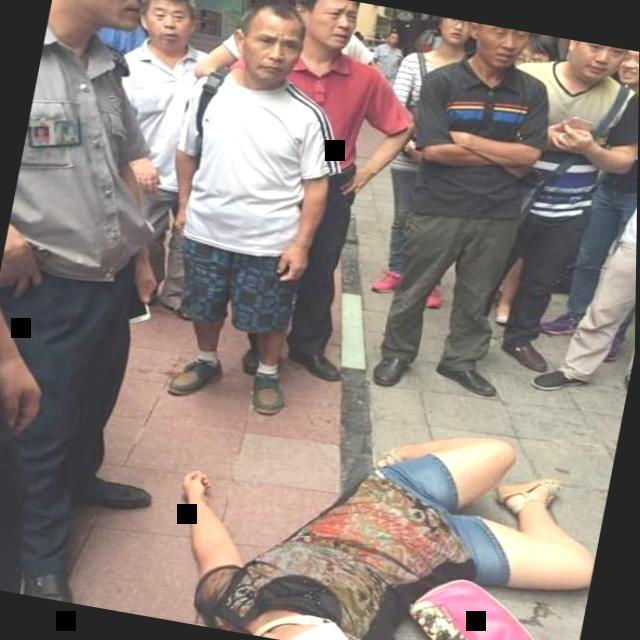Fall-Detected: (151, 367, 619, 640)
